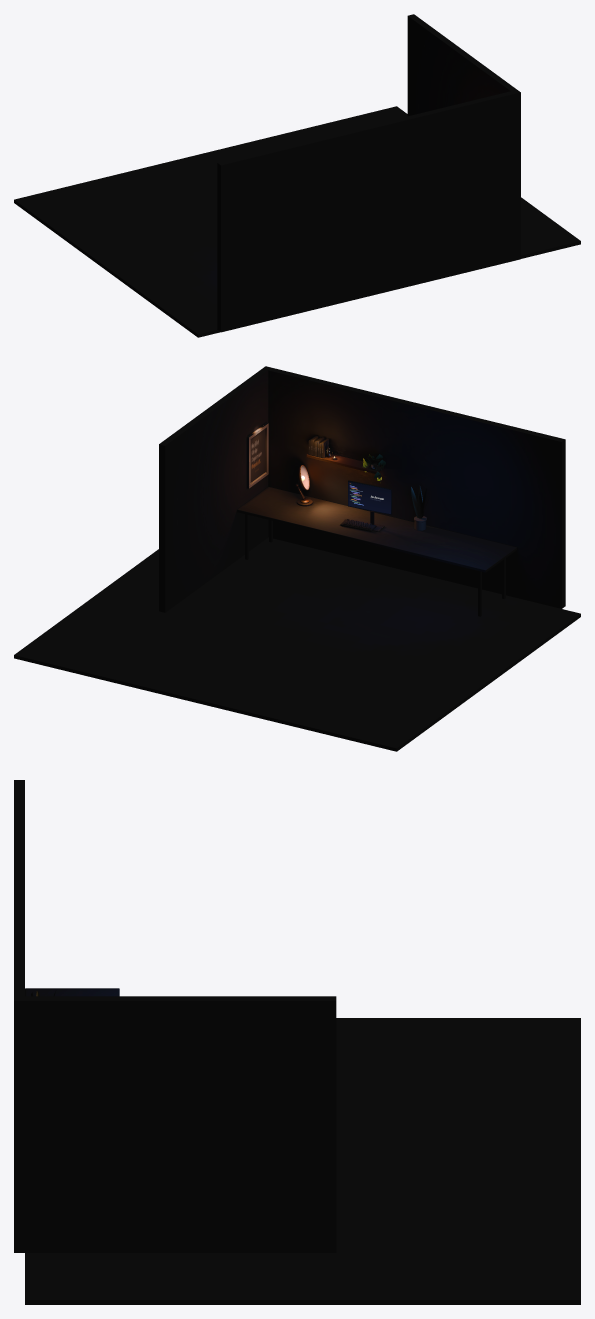
File: desk-scene.glb
The picture shows the model from 3 angles, top to bottom: view 1: azimuth 30°, elevation 25°; view 2: azimuth 150°, elevation 25°; view 3: azimuth 270°, elevation 25°; orthographic projection. The views are drawn at different scales.
Parts seen in each view (by area): view 1: back_wall, floor, left_wall; view 2: floor, back_wall, left_wall, desk, Screen, poster, frame, shelf; view 3: floor, left_wall, back_wall, desk.
Part boxes in pixels (box(x1,y1,x2,y2)): back_wall: box(217, 90, 520, 332); floor: box(14, 106, 580, 337); left_wall: box(407, 14, 516, 116); floor: box(14, 537, 580, 751); back_wall: box(262, 366, 565, 608); left_wall: box(159, 369, 268, 612); desk: box(237, 487, 516, 616); Screen: box(348, 482, 390, 513); poster: box(250, 429, 264, 482); frame: box(247, 423, 268, 488); shelf: box(306, 453, 383, 473); floor: box(25, 1018, 580, 1304); left_wall: box(25, 996, 336, 1252); back_wall: box(14, 780, 24, 1252); desk: box(25, 988, 119, 996).
Size of the model in its own units: 6 by 2.55 by 5.1.
Materials: 29 (25 with a texture image).
